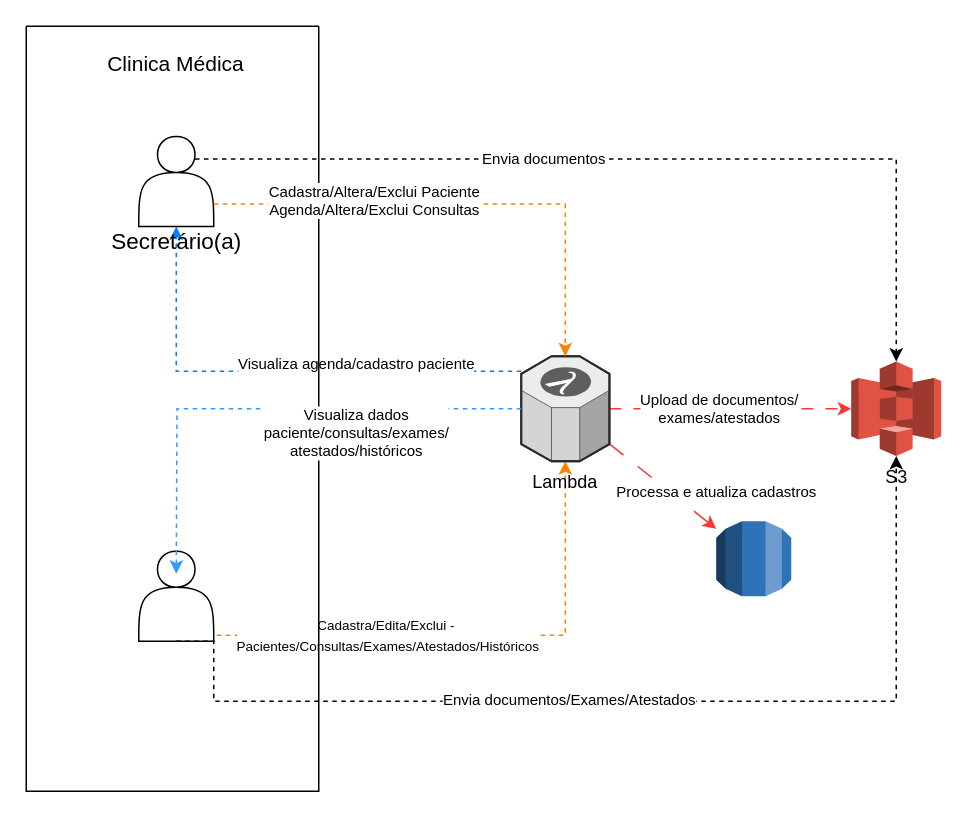
The diagram is 968 pixels wide and 818 high, and some of its shapes have lost their labels. Each missing label, with the centre of its shape:
Médico(a): the point at 175,595
RDS: the point at 753,558
